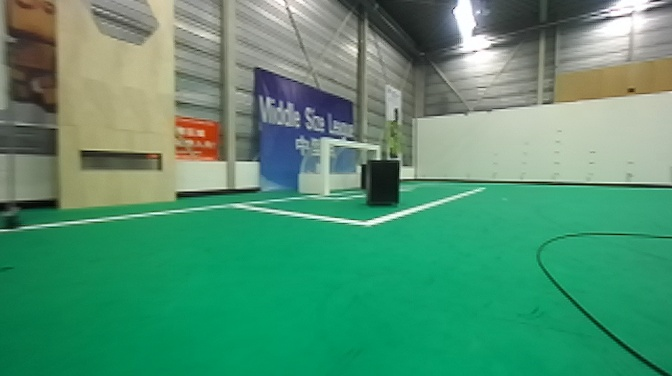goalpost: (320, 138, 330, 196), (370, 143, 383, 162)
